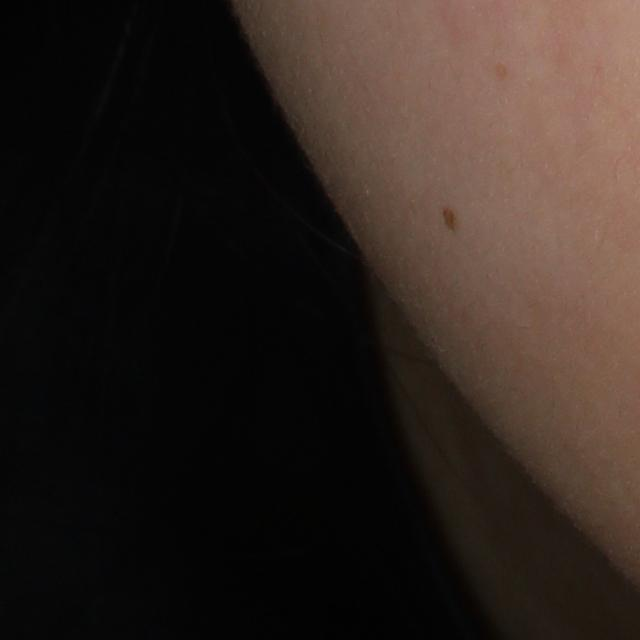nevus: (439, 205, 460, 230)
